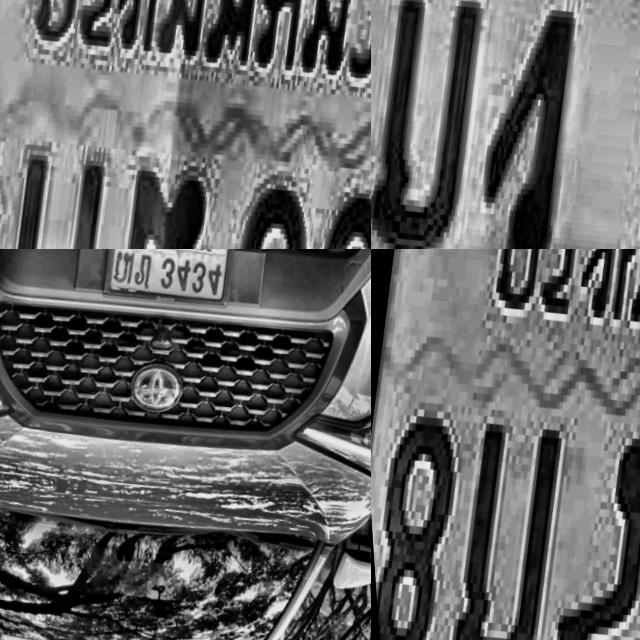license-plate: (371, 249, 640, 640), (0, 0, 371, 249), (371, 0, 640, 249), (94, 249, 238, 326)
